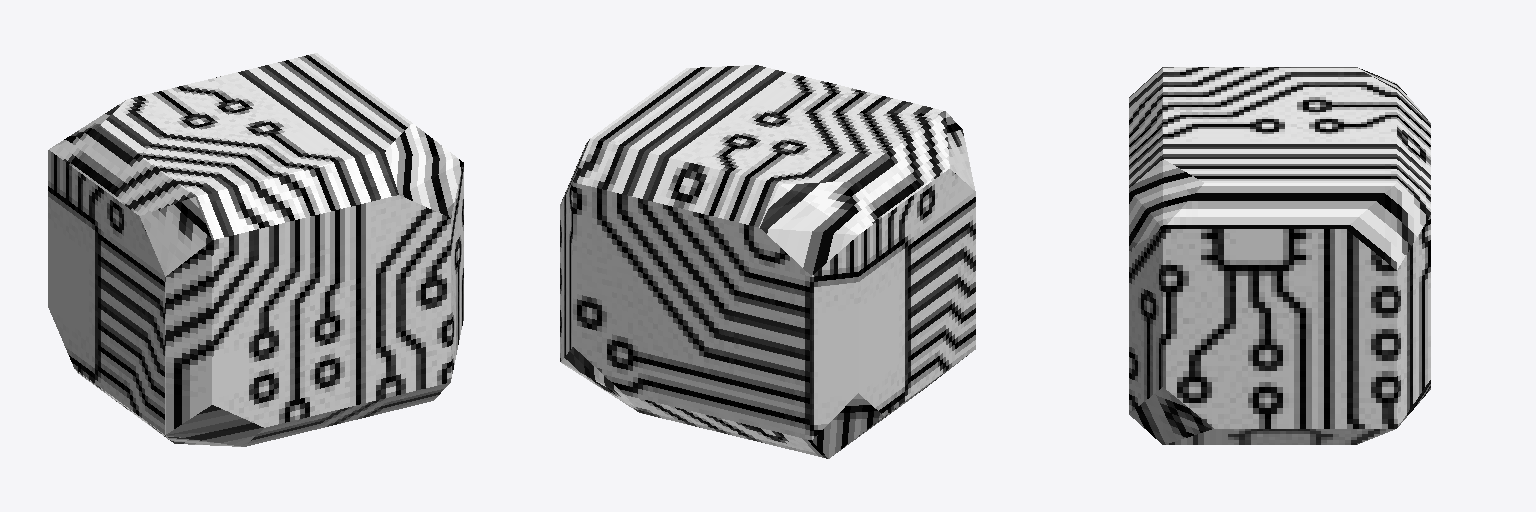
3 renders of one model, left to right at view 1: azimuth 30°, elevation 25°; view 2: azimuth 150°, elevation 25°; view 3: azimuth 270°, elevation 25°, orthographic.
Parts seen in each view (by area): view 1: Head_Cube.001; view 2: Head_Cube.001; view 3: Head_Cube.001.
Part boxes in pixels (x1,y1,x2,y2): Head_Cube.001: (48,53,463,446); Head_Cube.001: (560,65,975,458); Head_Cube.001: (1129,67,1430,444).
Bounding box in the file's own units: 1 × 0.8413 × 0.8791.
Materials: 1 (1 with a texture image).